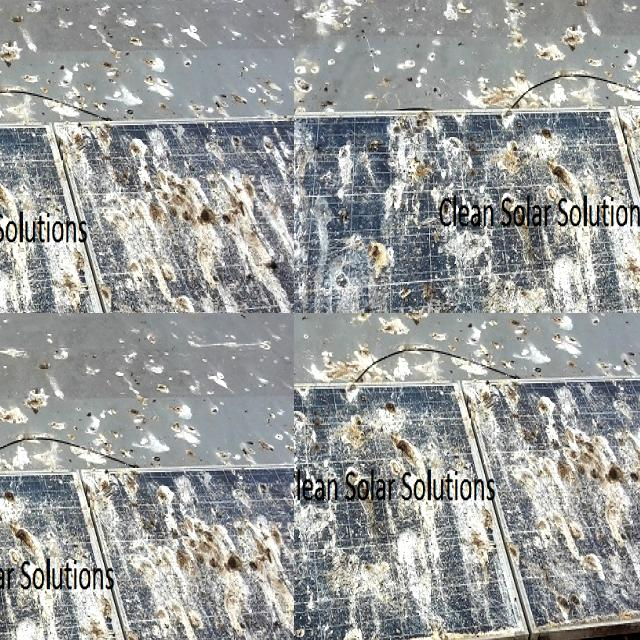bird: (570, 427, 638, 487), (512, 494, 574, 558), (347, 544, 397, 601), (385, 422, 430, 482), (581, 522, 612, 598), (466, 508, 496, 580), (536, 390, 568, 454), (294, 544, 318, 621), (464, 373, 526, 402), (333, 400, 370, 448), (548, 577, 585, 618), (294, 394, 315, 460), (327, 612, 371, 640), (294, 383, 324, 420), (294, 583, 313, 640), (294, 609, 328, 640), (369, 394, 412, 418), (294, 433, 312, 486), (294, 499, 310, 558), (294, 399, 306, 476)
crack: (0, 313, 237, 640), (106, 313, 294, 640)
hotspot: (0, 64, 25, 139), (0, 56, 20, 139), (0, 0, 21, 47), (0, 0, 12, 29)
